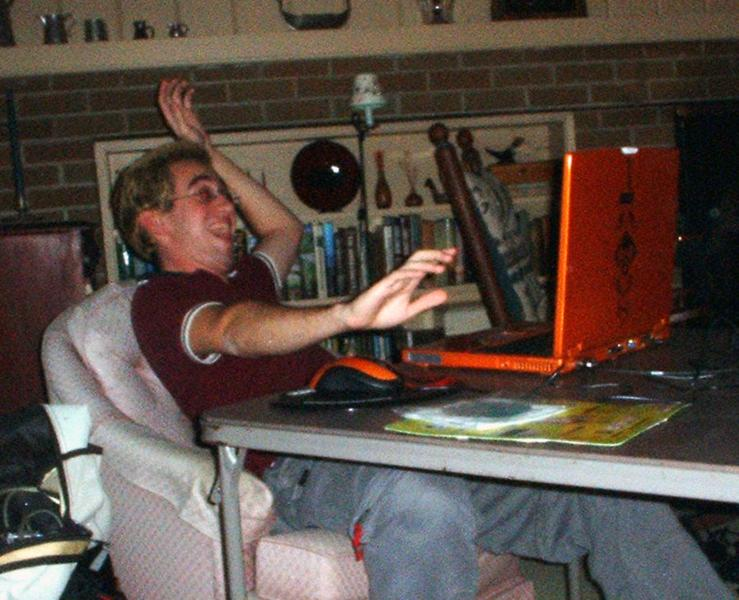person: (110, 75, 733, 600)
